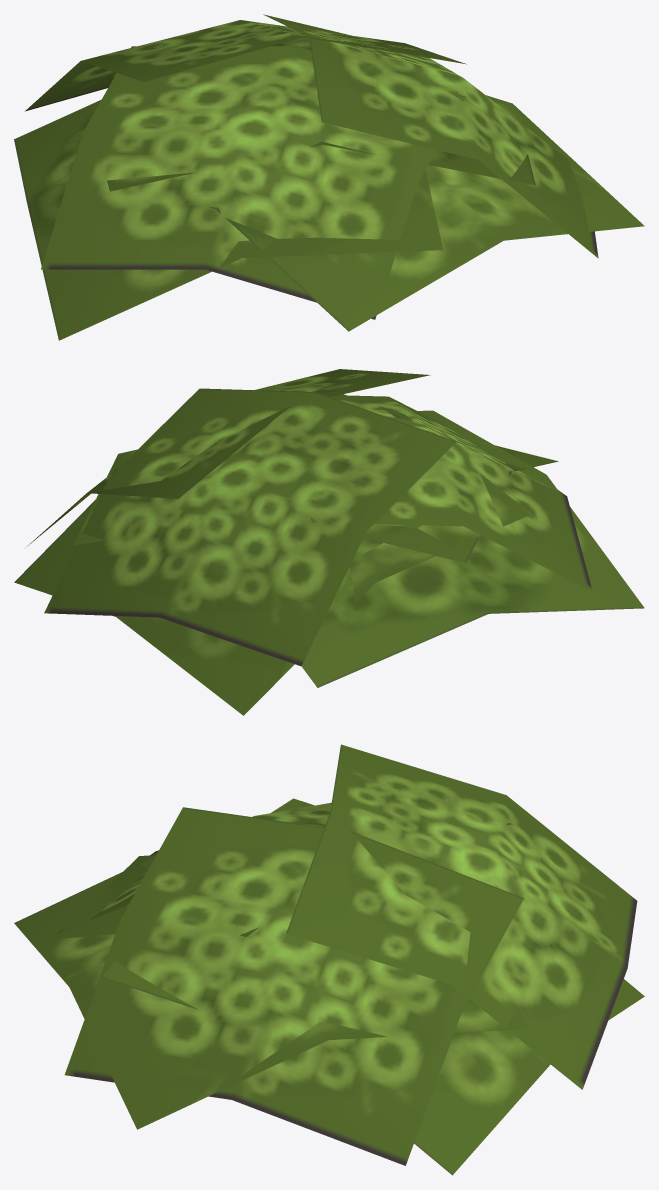
File: Green_flora_15.FBX
The picture shows the model from 3 angles, top to bottom: view 1: azimuth 30°, elevation 25°; view 2: azimuth 150°, elevation 25°; view 3: azimuth 270°, elevation 25°; orthographic projection. The views are drawn at different scales.
Visible parts, largest first — view 1: Green_flora_15; view 2: Green_flora_15; view 3: Green_flora_15.
Part boxes in pixels (<box>): Green_flora_15: <box>14,14,644,340</box>; Green_flora_15: <box>14,369,644,715</box>; Green_flora_15: <box>14,744,644,1175</box>.
Bounding box in the file's own units: 188 × 70.12 × 173.
